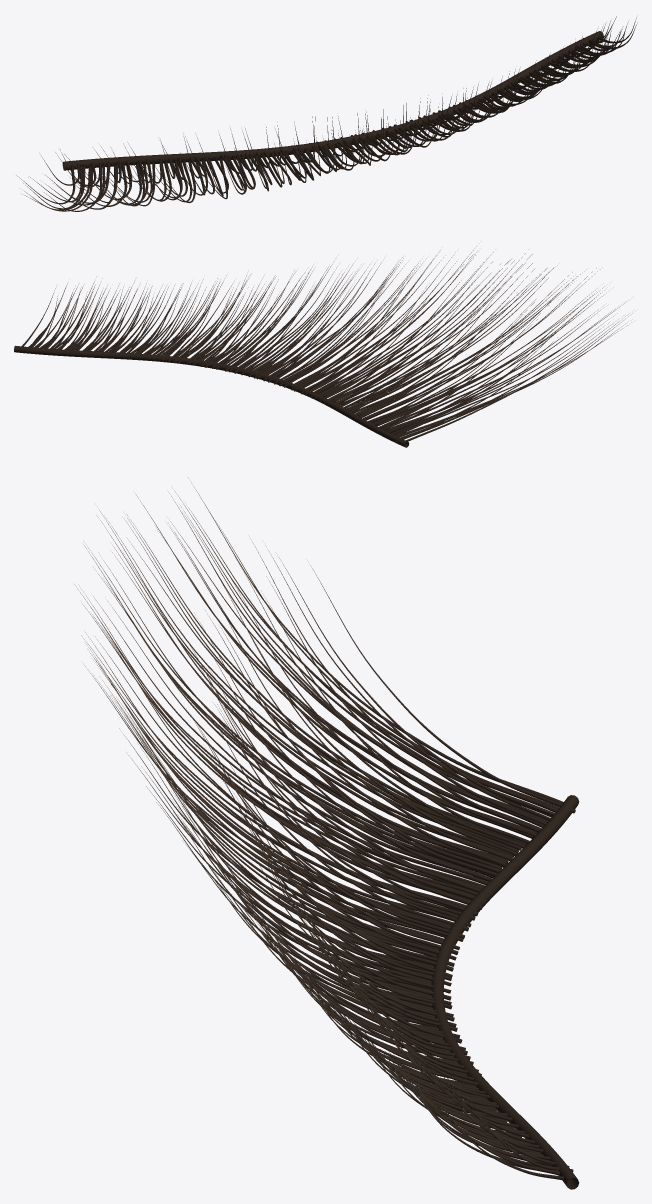
The model's file is cat_classic_left.glb.
3 renders of one model, top to bottom at view 1: azimuth 30°, elevation 25°; view 2: azimuth 150°, elevation 25°; view 3: azimuth 270°, elevation 25°, orthographic. The views are drawn at different scales.
Parts seen in each view (by area): view 1: cat_classic_left; view 2: cat_classic_left; view 3: cat_classic_left.
Part boxes in pixels (x1,y1,x2,y2): cat_classic_left: (16,16,637,211); cat_classic_left: (14,246,632,447); cat_classic_left: (74,482,579,1189).
Size of the model in its own units: 4.02 by 0.8292 by 1.68.
